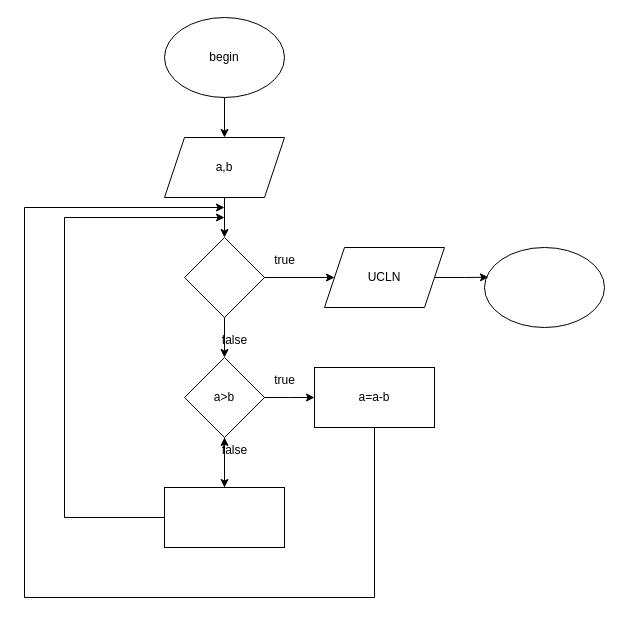
This 622x623 diagram has some shape labels left out. The centre of each missing label's shape, as x and y in pixels:
"a=b" belongs at (x=224, y=277).
"b=b-a" belongs at (x=224, y=517).
"end" belongs at (x=544, y=287).
